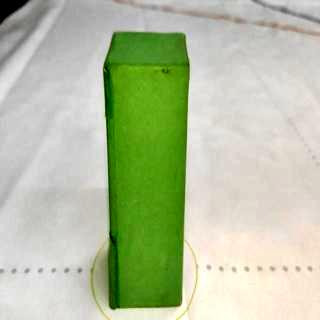greenbox: (101, 29, 193, 308)
